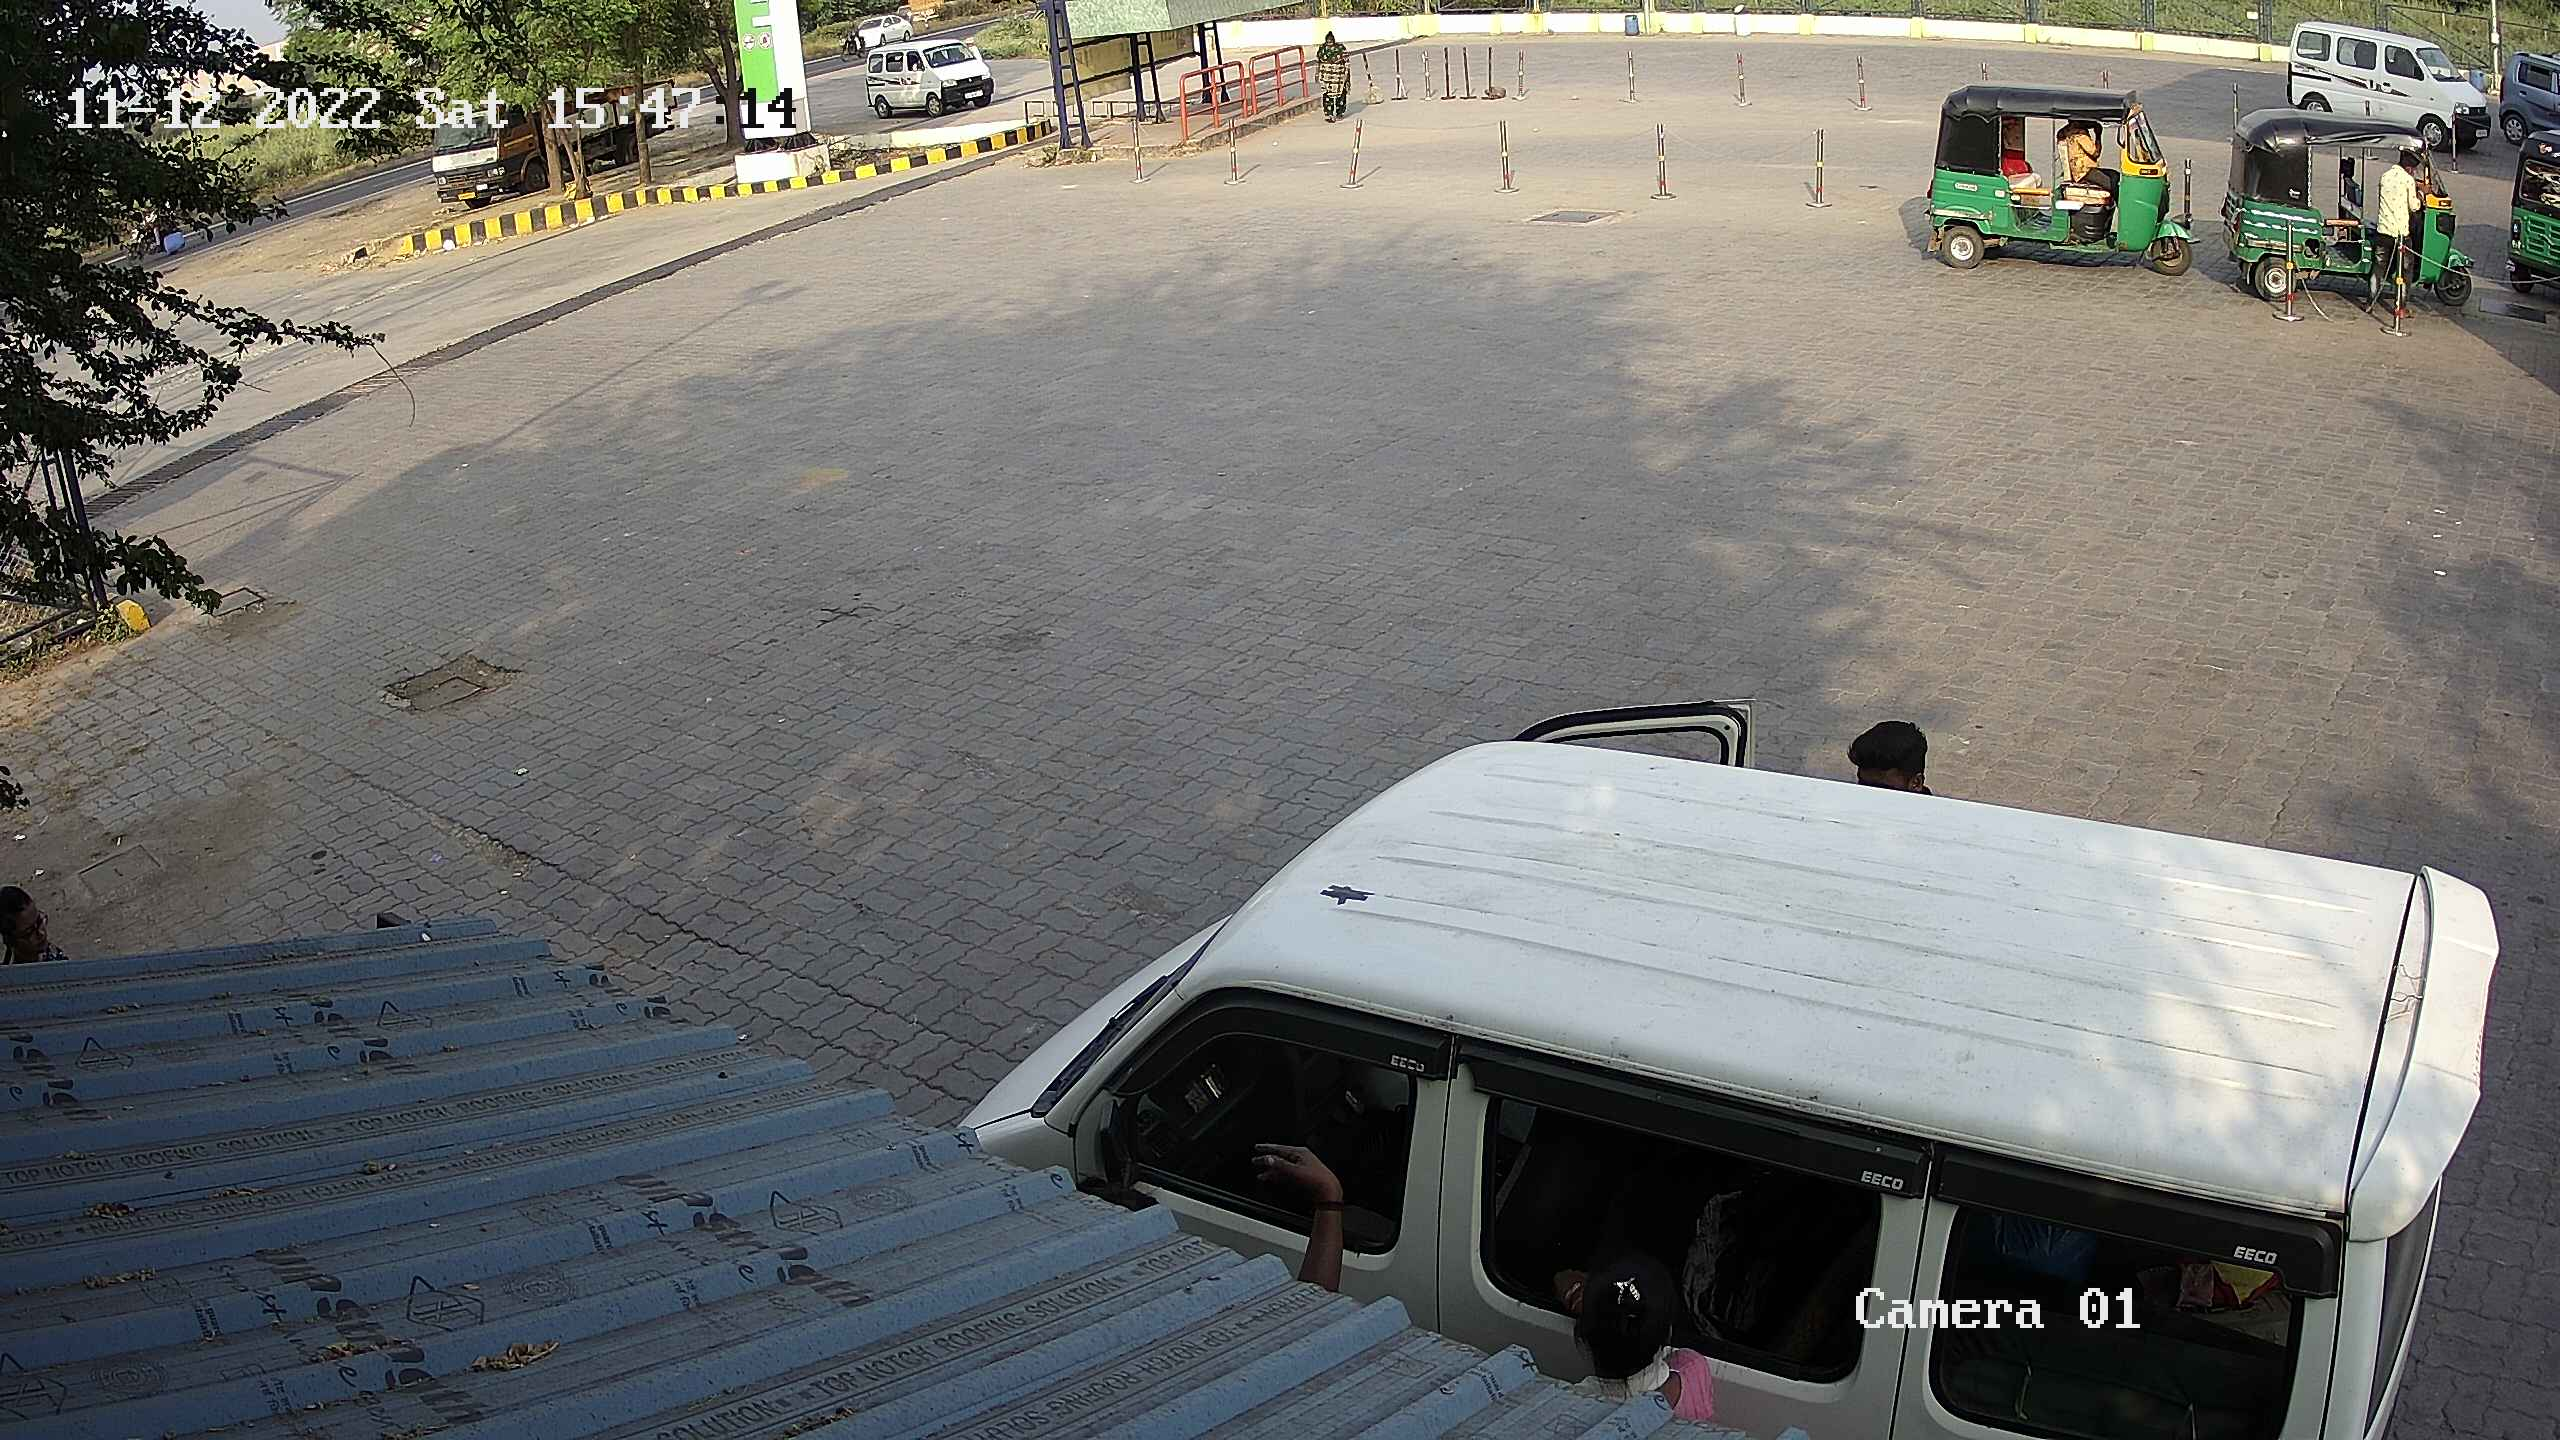Auto: (2212, 90, 2488, 325), (1916, 67, 2205, 287), (2484, 107, 2558, 320)
Car: (935, 679, 2504, 1436), (2280, 4, 2498, 153), (846, 25, 1000, 125), (2486, 30, 2558, 156), (847, 4, 921, 55)
HMV: (411, 51, 563, 222)
